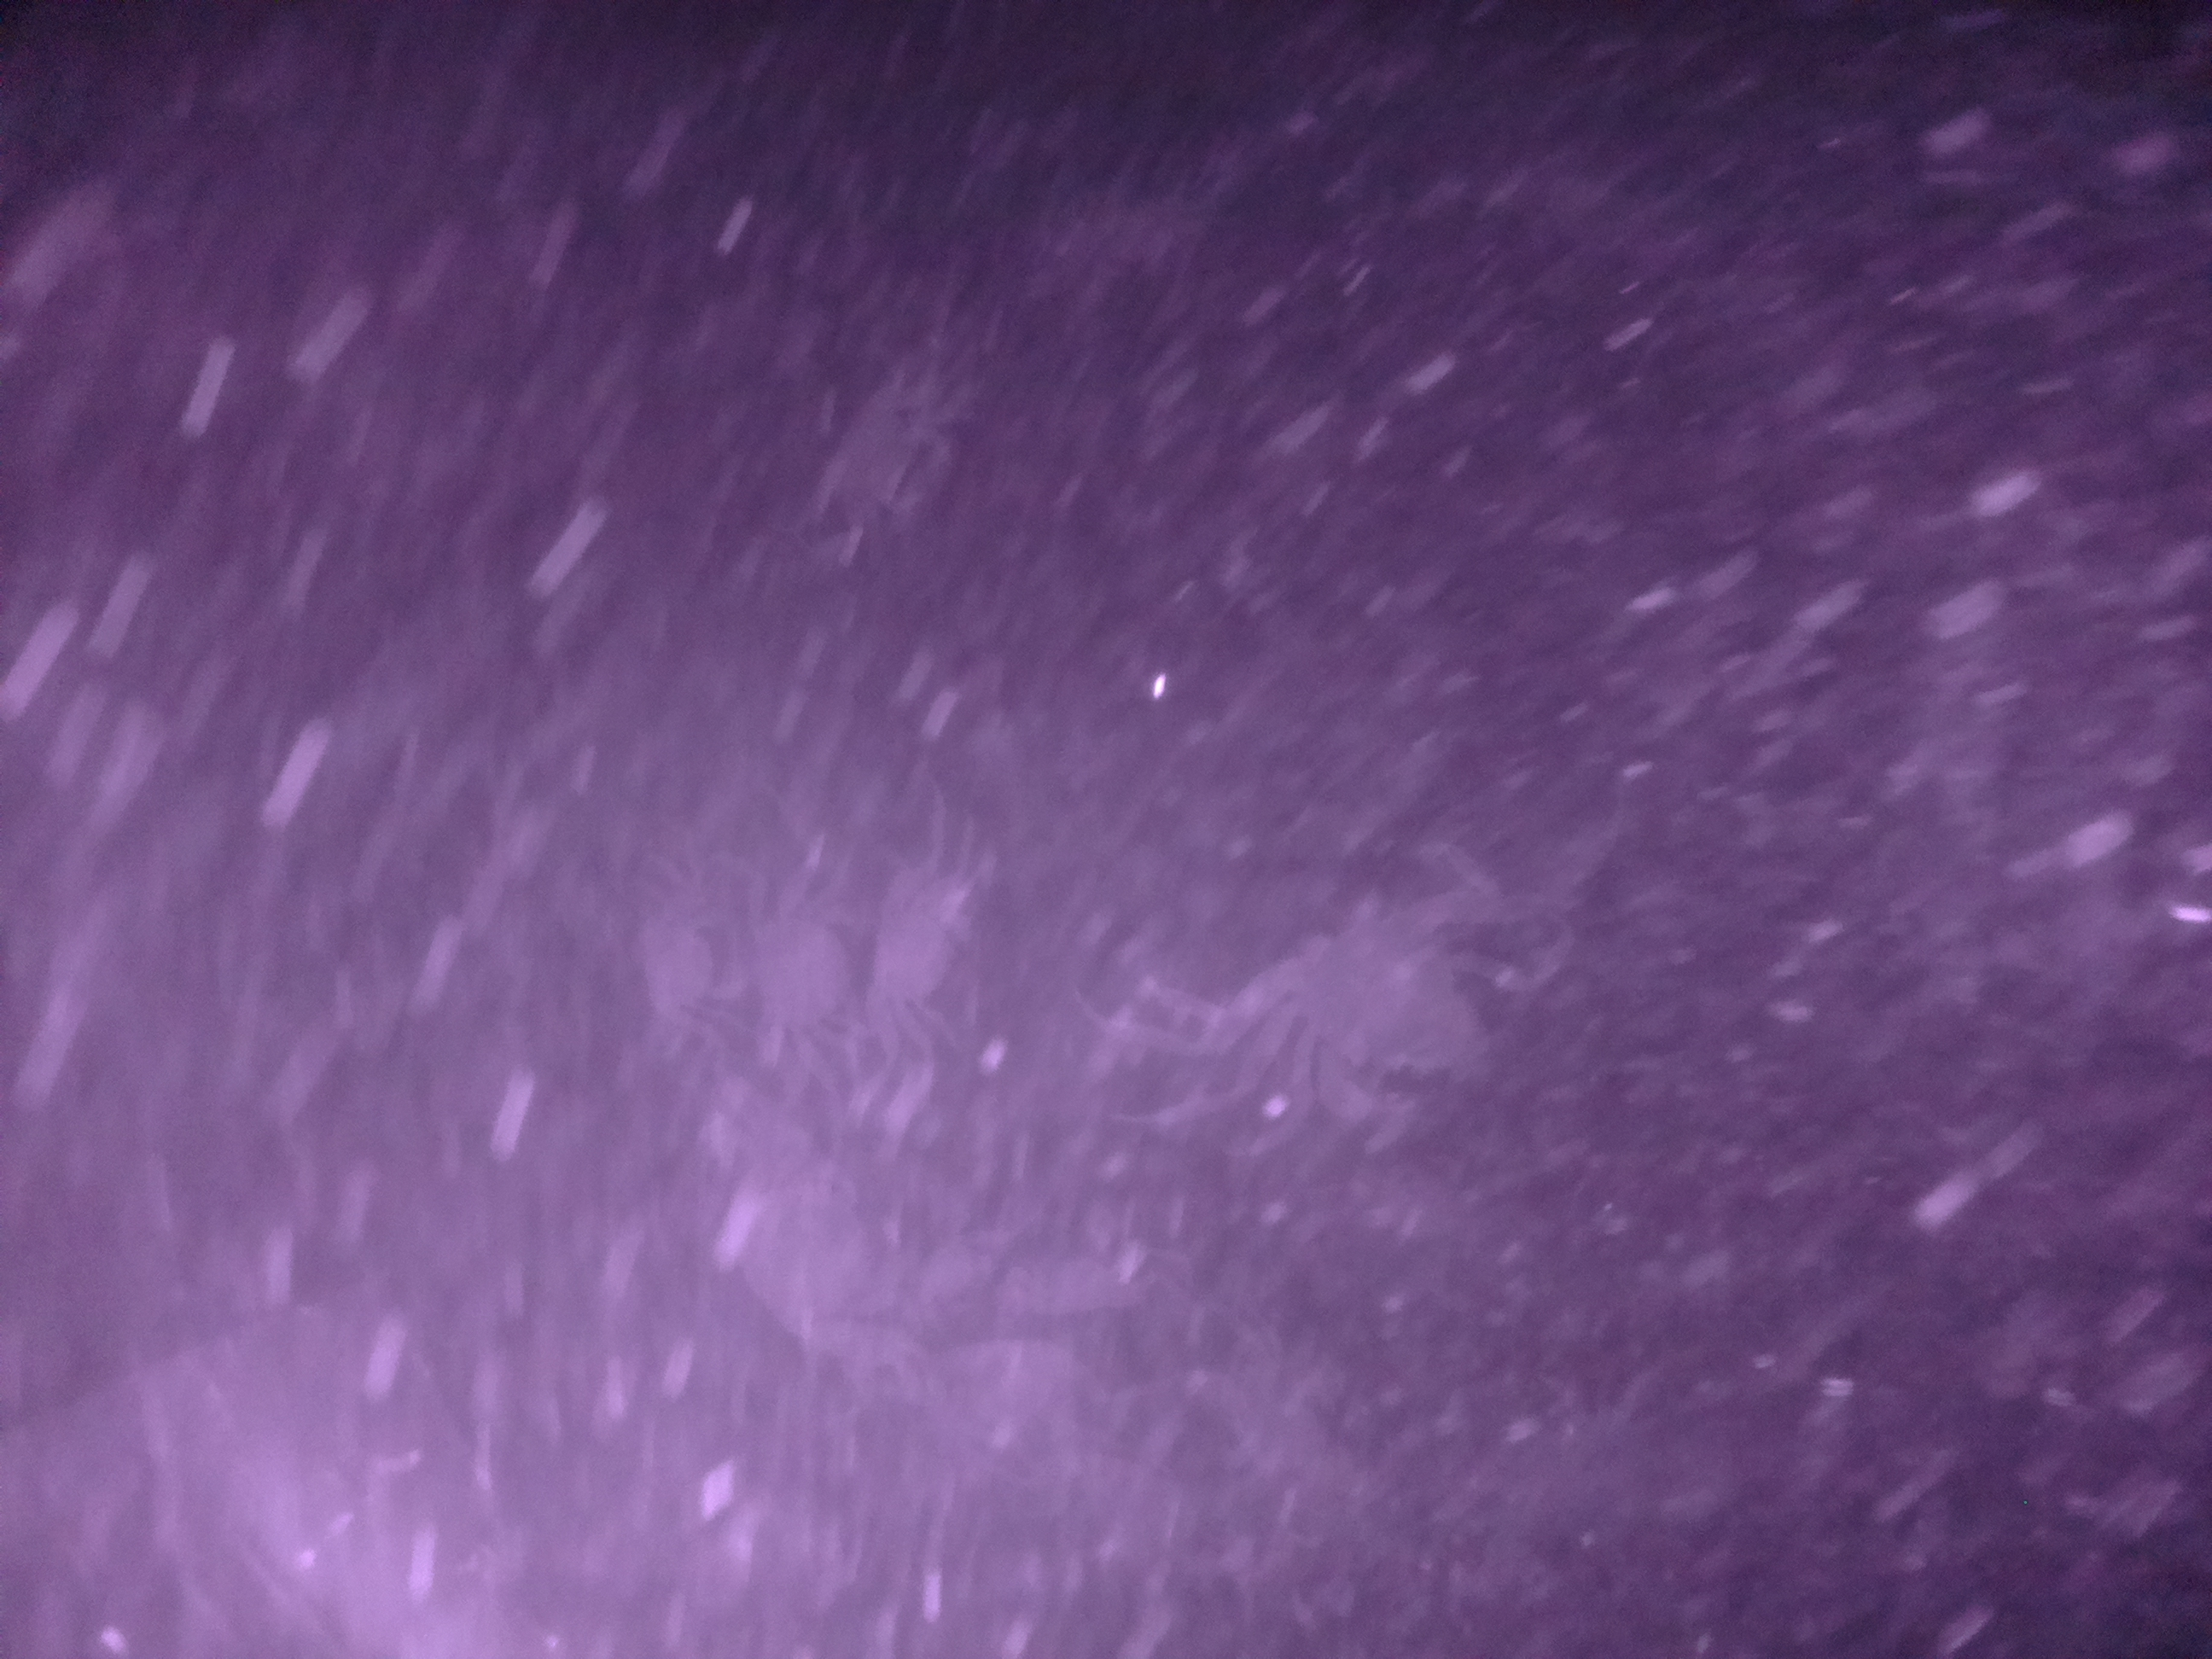Crab: (1235, 847, 1522, 1162), (730, 875, 874, 1087), (599, 884, 744, 1089), (864, 861, 989, 1080)
